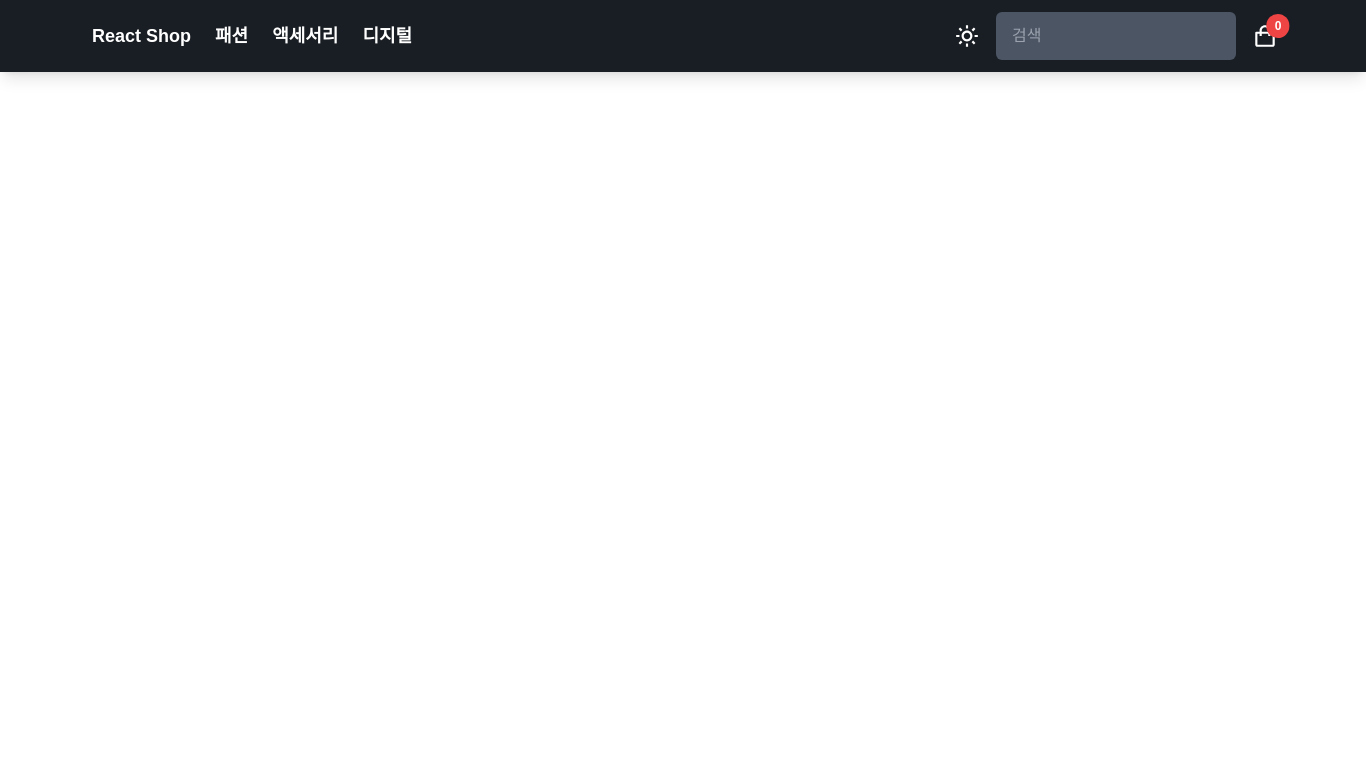
Test: header 테스트 › 헤더 액세서리 클릭시 정상적으로 라우팅 되는가?
The image size is (1366, 762).
Step 1. Click the link with test id "mainJewery" → (305, 36), box [272,26,338,46]
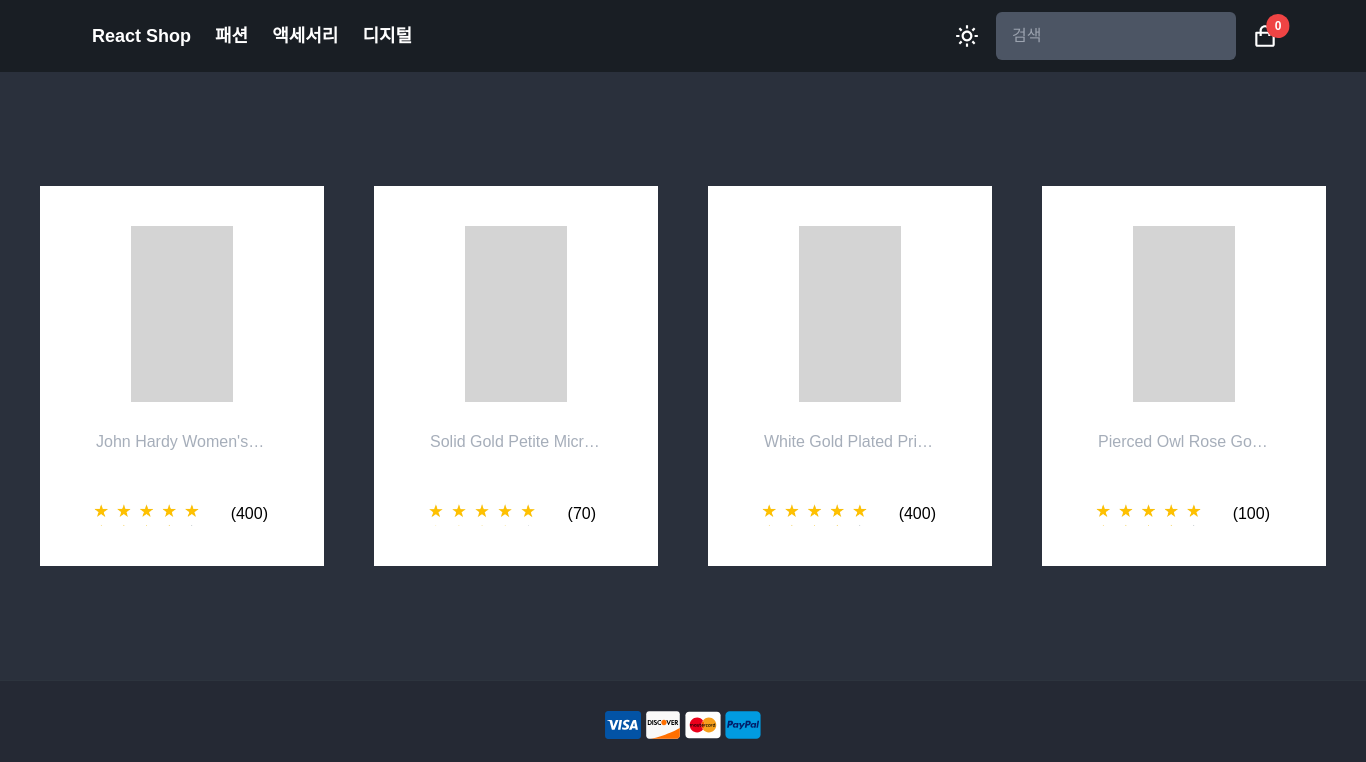
Now the 1st element with test id "swiper" is shown
